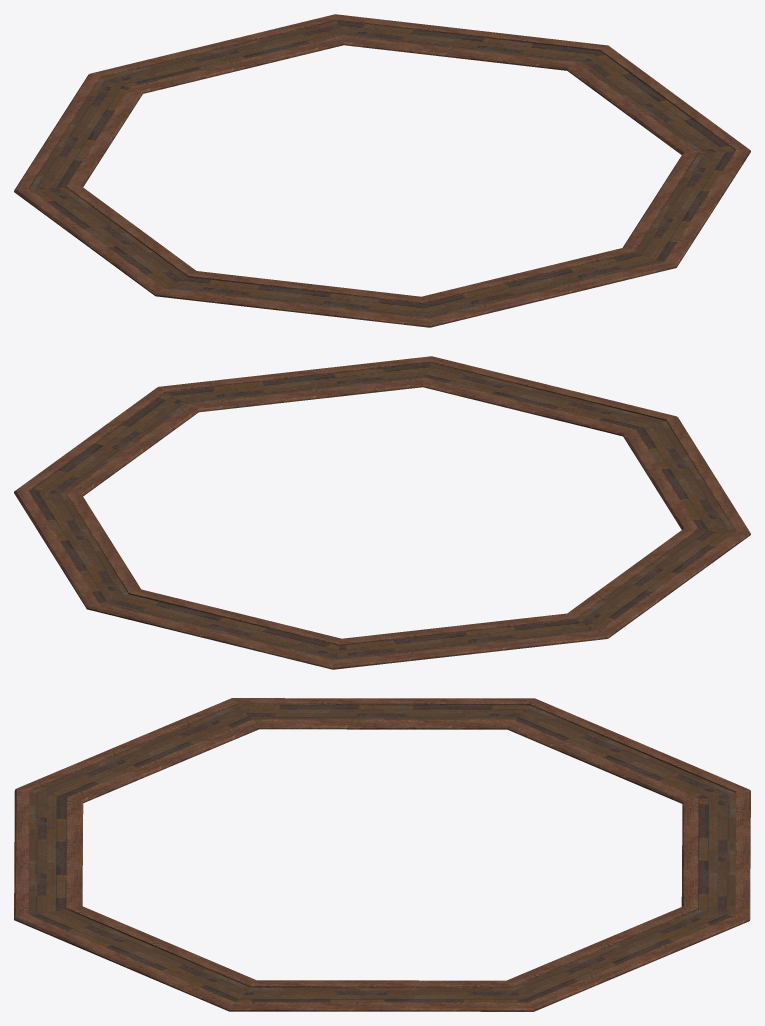
The model's file is Prop_GroundWoodOctagon.fbx.
3 renders of one model, top to bottom at view 1: azimuth 30°, elevation 25°; view 2: azimuth 150°, elevation 25°; view 3: azimuth 270°, elevation 25°, orthographic. The views are drawn at different scales.
Parts seen in each view (by area): view 1: Prop_GroundWoodOctagon; view 2: Prop_GroundWoodOctagon; view 3: Prop_GroundWoodOctagon.
Part boxes in pixels (bbox=[...]): Prop_GroundWoodOctagon: bbox=[14, 14, 750, 327]; Prop_GroundWoodOctagon: bbox=[14, 356, 750, 669]; Prop_GroundWoodOctagon: bbox=[14, 698, 750, 1011].
Size of the model in its own units: 284 by 1.31 by 284.
